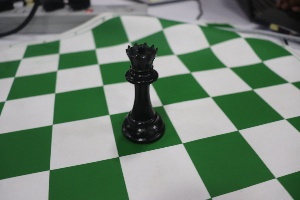black_queen: (107, 30, 171, 149)
